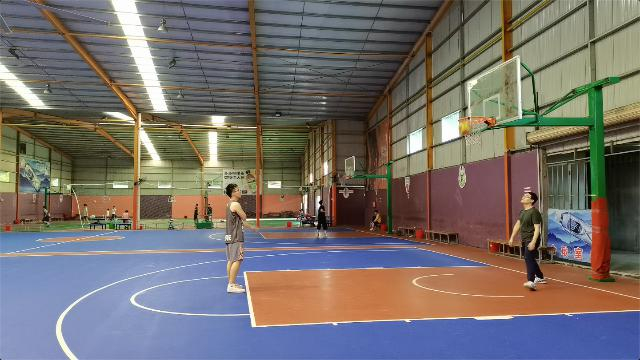ball: (458, 122, 472, 133)
basket: (456, 115, 486, 145)
